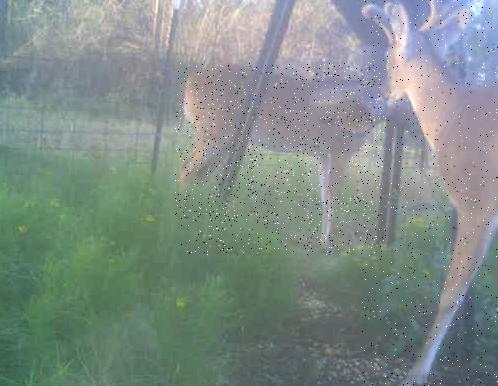Deer: (361, 0, 498, 386), (175, 64, 382, 256)
